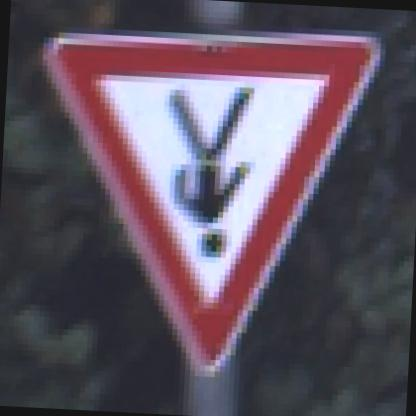crosswalk: (20, 1, 404, 396)
